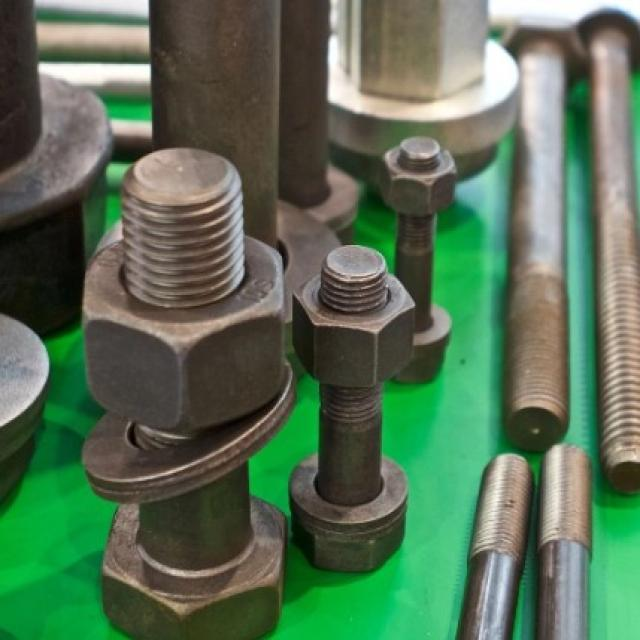Logam: (62, 138, 297, 637), (276, 218, 438, 580), (485, 5, 580, 441), (358, 120, 466, 378), (450, 438, 529, 640), (535, 450, 615, 634)
